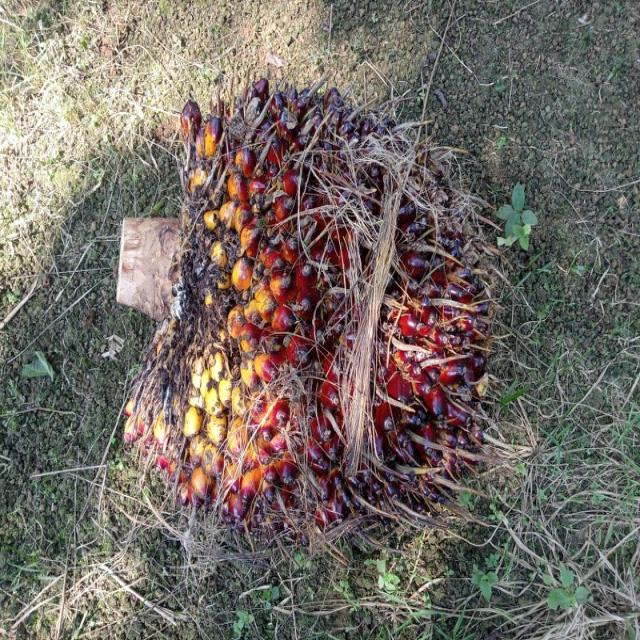fraksi 1: (110, 21, 526, 598)
